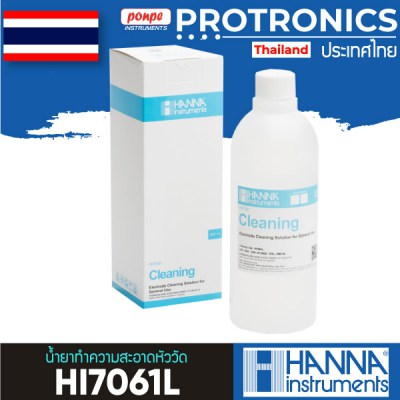Cleaning_solution: (224, 64, 326, 338)
